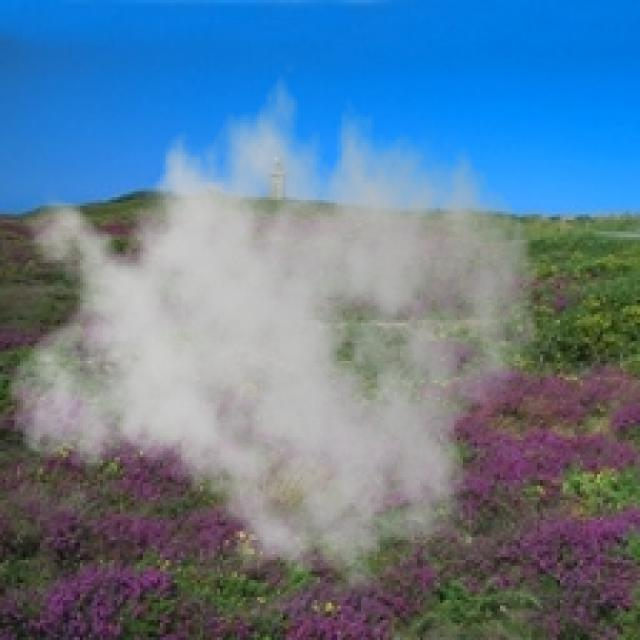smoke: (6, 51, 540, 603)
